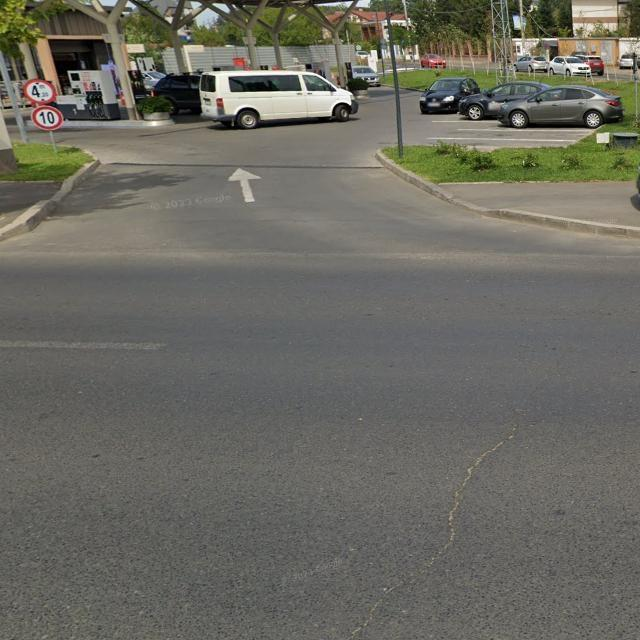forb_speed_over_10: (32, 105, 63, 131)
